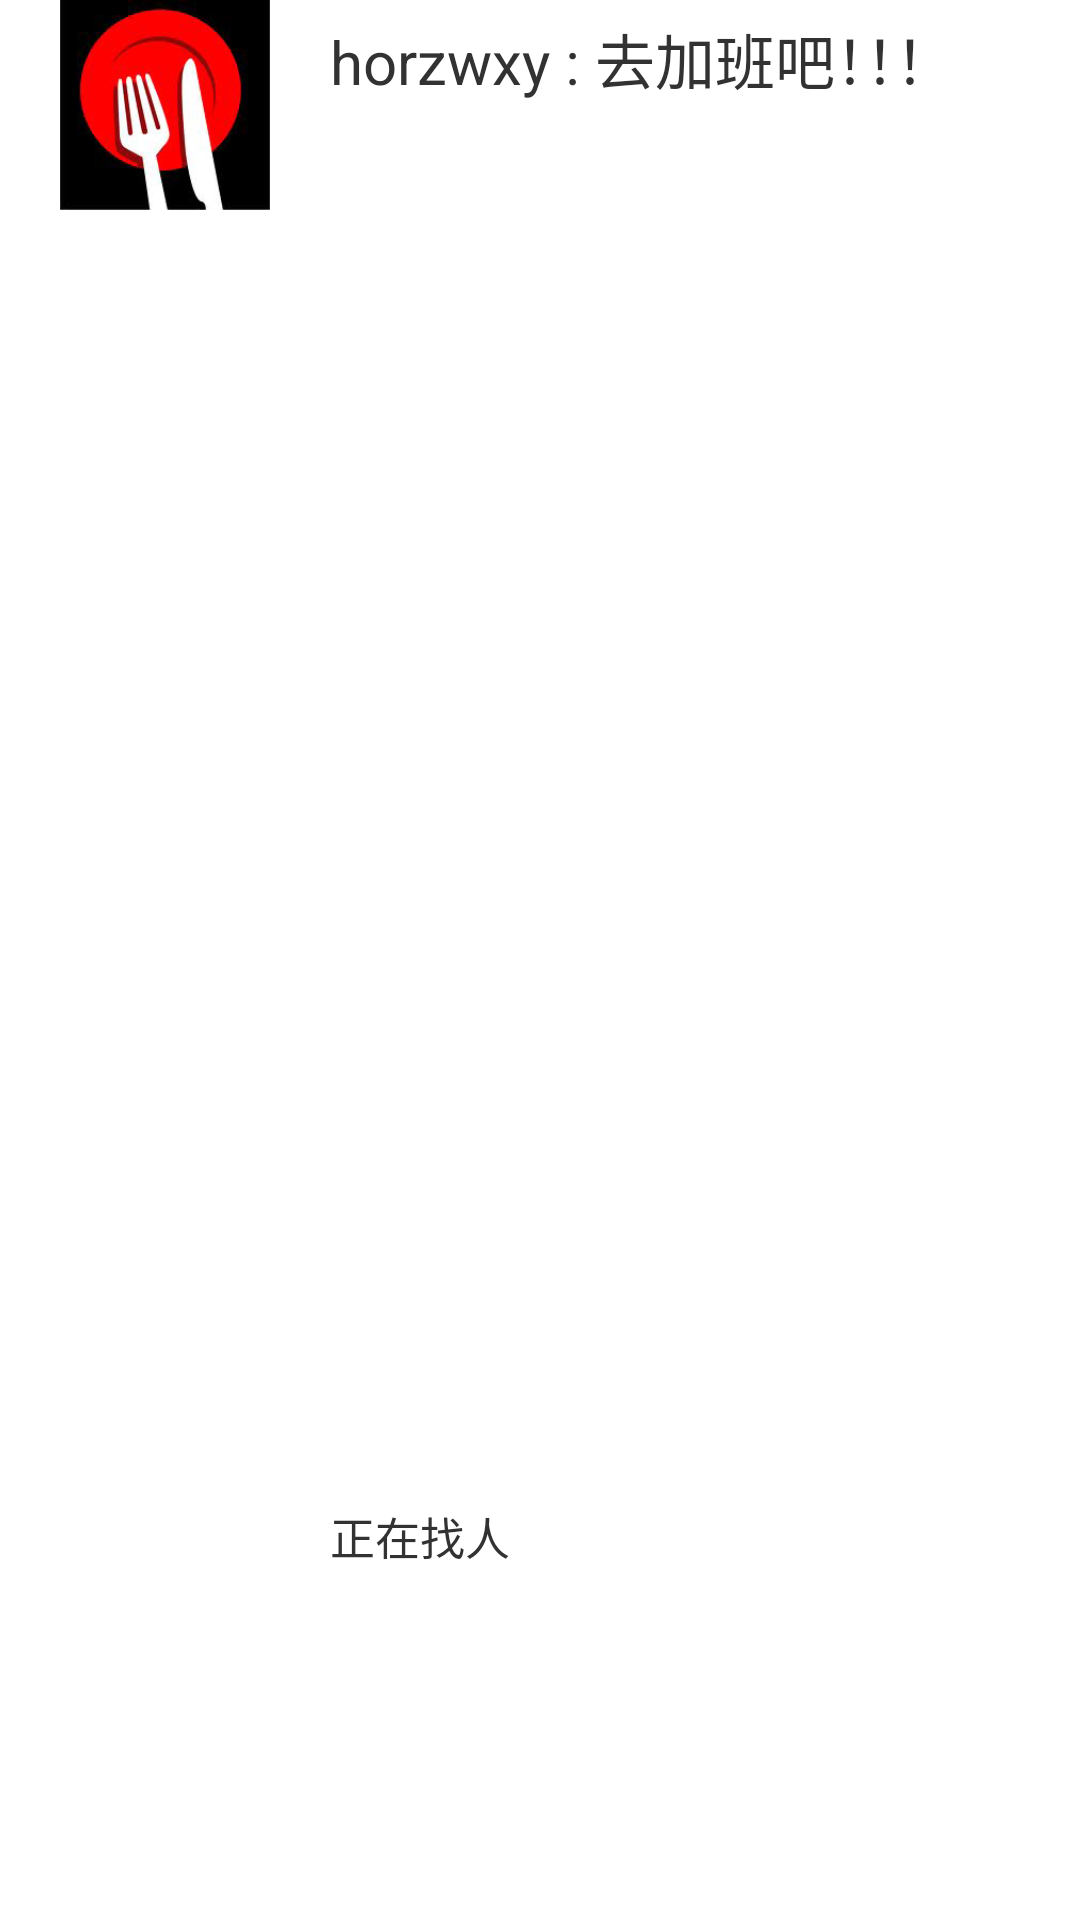

Point at icon controls on the screen. Image size 1080x1920, points as (x=x, y=y).
dining: (x=165, y=105)
